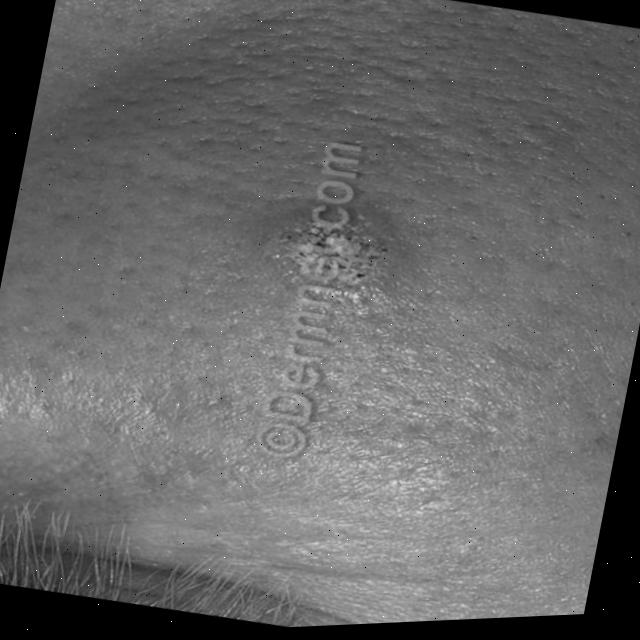Eczema: (248, 174, 402, 326)
